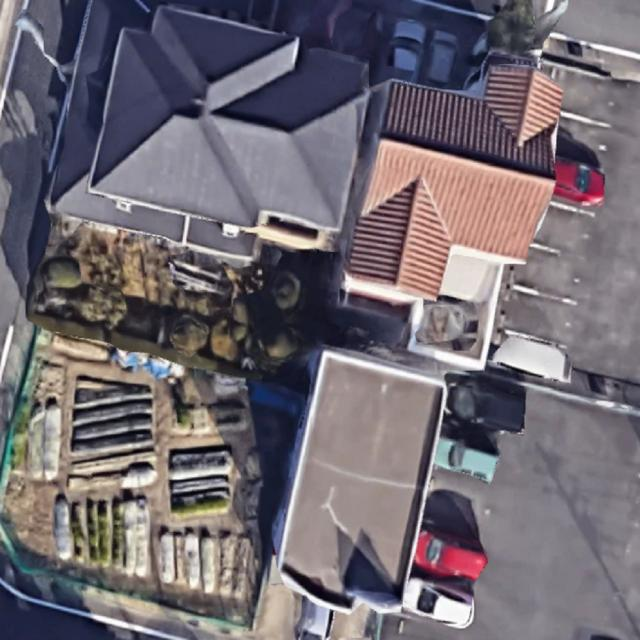Batiment: (50, 0, 369, 263), (345, 65, 562, 303), (278, 350, 445, 612)
